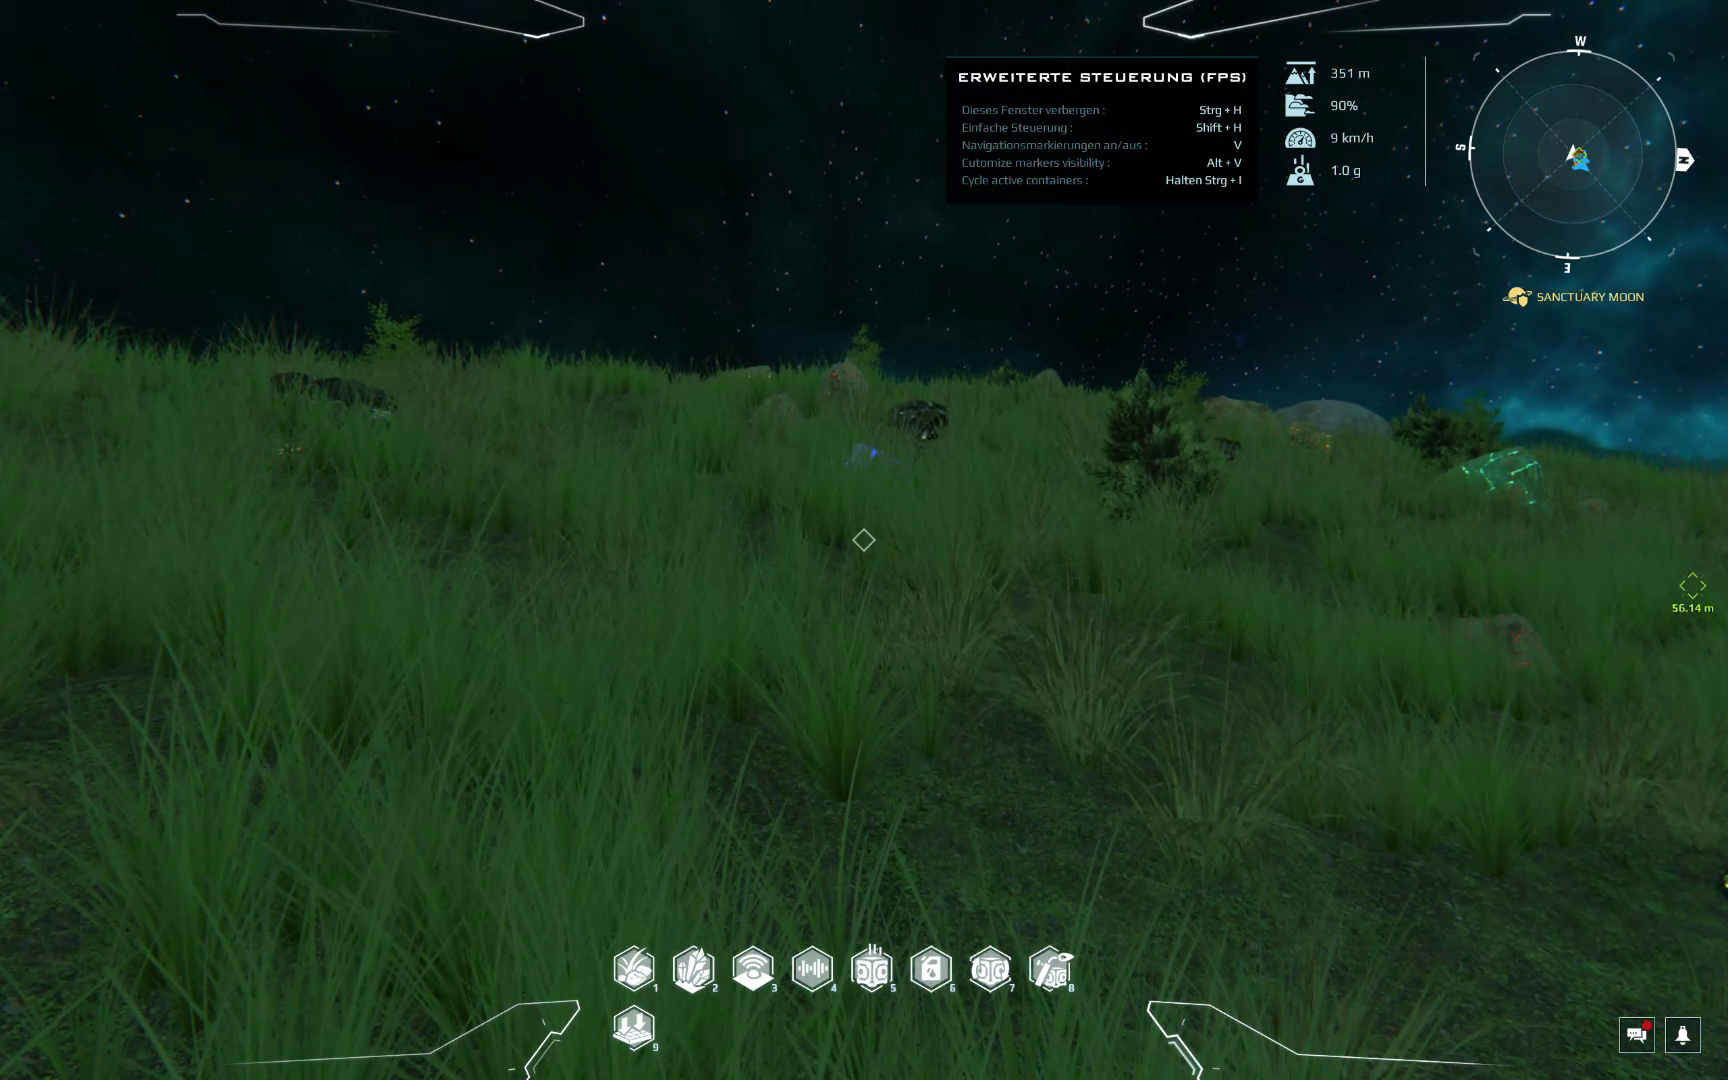Ore: (1424, 601, 1564, 688), (1431, 444, 1558, 526), (264, 366, 397, 422), (1197, 392, 1281, 440), (814, 360, 870, 428), (882, 394, 947, 445), (264, 434, 323, 482), (746, 389, 805, 434), (1284, 419, 1337, 459), (841, 439, 883, 475), (1569, 491, 1612, 523), (1205, 432, 1242, 464)
